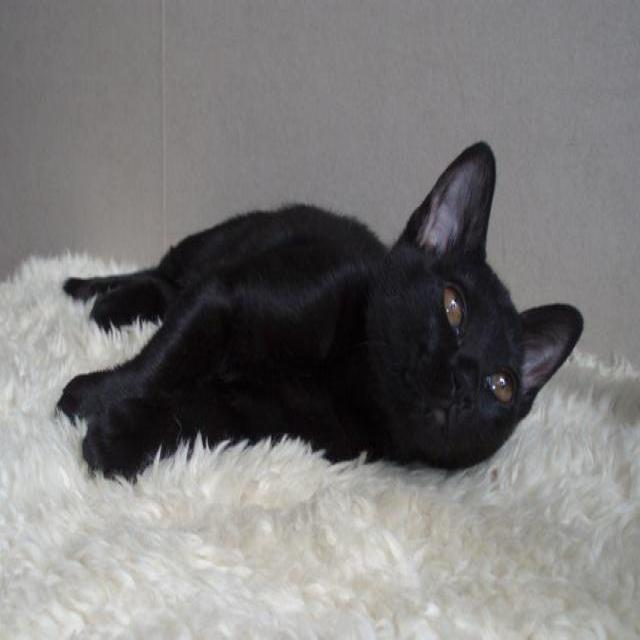cat: (56, 141, 584, 479)
